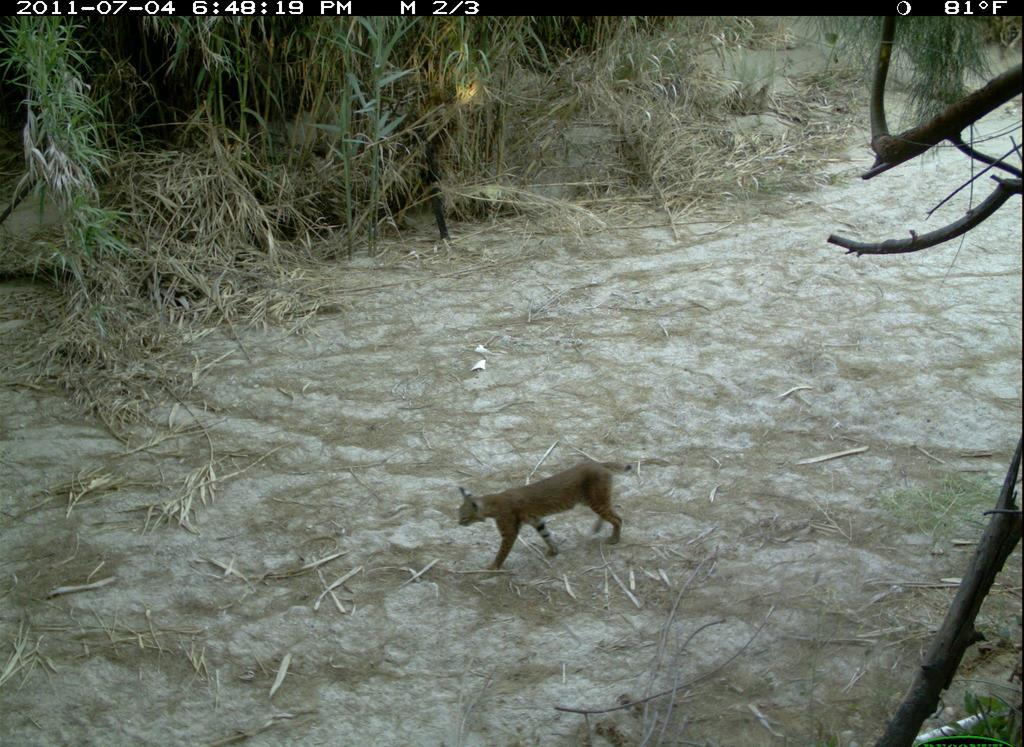bobcat: (451, 460, 638, 579)
